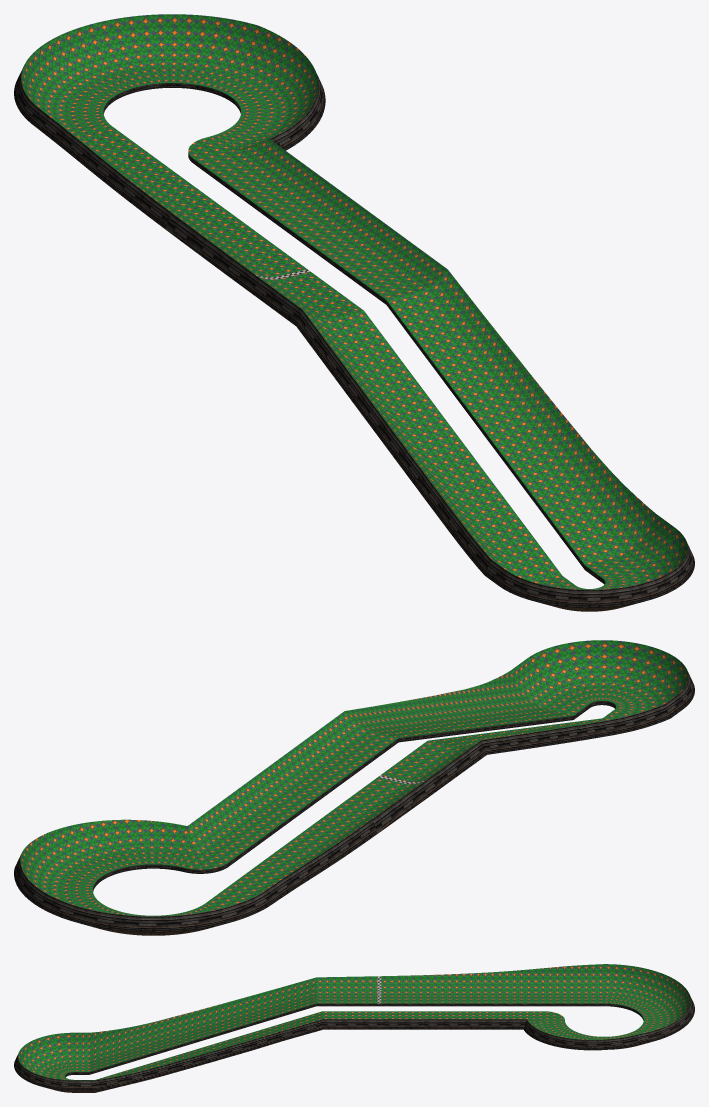
3 views of the same model, one above another, from view 1: azimuth 30°, elevation 25°; view 2: azimuth 150°, elevation 25°; view 3: azimuth 270°, elevation 25° (orthographic). The views are drawn at different scales.
Parts seen in each view (by area): view 1: course-COM-MOT_STAGE_D2-101257-1_13png.001, course-COM-MOT_STAGE_A1-101251-1_16png.001, course-COM-MOT_STAGE_A2-101252-1_0png.001, course-COM-MOT_STAGE_A1-101251-1_10png.001, course-COM-MOT_STAGE_D1-101256-1_11png.001, course-COM-MOT_STAGE_F1-101261-1_5pn.001, course-COM-MOT_STAGE_A2-101252-1_4png.001, course-COM-MOT_STAGE_F2-101262-1_7pn.001, course-COM-MOT_STAGE_B2-101254-1_Epng.001, course-COM-MOT_STAGE_B1-101253-1_Cpng.001, course-COM-MOT_STAGE_E2-101260-1_2pn.001, course-COM-MOT_STAGE_E1-101259-1_19png.001 (+18 smaller); view 2: course-COM-MOT_STAGE_D3-101258-1_17png.001, course-COM-MOT_STAGE_G1-101263-gxmat1250pn.001, course-COM-MOT_STAGE_A1-101251-1_16png.001, course-COM-MOT_STAGE_B2-101254-1_Epng.001, course-COM-MOT_STAGE_B1-101253-1_Cpng.001, course-COM-MOT_STAGE_D1-101256-2_14png.001, course-COM-MOT_STAGE_E2-101260-1_2pn.001, course-COM-MOT_STAGE_E1-101259-1_19png.001, course-COM-MOT_STAGE_B1-101253-1_Dpng.001, course-COM-MOT_STAGE_B2-101254-1_Fpng.001, course-COM-MOT_STAGE_G2-101264-1_9pn.001, course-COM-MOT_STAGE_A2-101252-1_0png.001 (+16 smaller); view 3: course-COM-MOT_STAGE_E2-101260-1_1pn.001, course-COM-MOT_STAGE_F1-101261-1_3pn.001, course-COM-MOT_STAGE_D1-101256-1_11png.001, course-COM-MOT_STAGE_E1-101259-1_18png.001, course-COM-MOT_STAGE_F2-101262-1_6pn.001, course-COM-MOT_STAGE_G2-101264-1_9pn.001, course-COM-MOT_STAGE_E2-101260-1_2pn.001, course-COM-MOT_STAGE_E1-101259-1_19png.001, course-COM-MOT_STAGE_A1-101251-2_1Apng.001, course-COM-MOT_STAGE_A2-101252-2_Dpng.001, course-COM-MOT_STAGE_F1-101261-1_5pn.001, course-COM-MOT_STAGE_B1-101253-2_11png.001 (+17 smaller).
Part boxes in pixels (x1=…): course-COM-MOT_STAGE_D2-101257-1_13png.001: x1=97, y1=14, x2=301, y2=89; course-COM-MOT_STAGE_A1-101251-1_16png.001: x1=518, y1=399, x2=674, y2=570; course-COM-MOT_STAGE_A2-101252-1_0png.001: x1=418, y1=269, x2=549, y2=424; course-COM-MOT_STAGE_A1-101251-1_10png.001: x1=486, y1=425, x2=634, y2=578; course-COM-MOT_STAGE_D1-101256-1_11png.001: x1=21, y1=23, x2=118, y2=134; course-COM-MOT_STAGE_F1-101261-1_5pn.001: x1=432, y1=443, x2=575, y2=588; course-COM-MOT_STAGE_A2-101252-1_4png.001: x1=386, y1=292, x2=517, y2=432; course-COM-MOT_STAGE_F2-101262-1_7pn.001: x1=332, y1=311, x2=462, y2=450; course-COM-MOT_STAGE_B2-101254-1_Epng.001: x1=225, y1=139, x2=358, y2=221; course-COM-MOT_STAGE_B1-101253-1_Cpng.001: x1=322, y1=204, x2=447, y2=291; course-COM-MOT_STAGE_E2-101260-1_2pn.001: x1=81, y1=126, x2=237, y2=226; course-COM-MOT_STAGE_E1-101259-1_19png.001: x1=207, y1=218, x2=363, y2=318; course-COM-MOT_STAGE_D3-101258-1_17png.001: x1=40, y1=819, x2=199, y2=869; course-COM-MOT_STAGE_G1-101263-gxmat1250pn.001: x1=527, y1=640, x2=645, y2=696; course-COM-MOT_STAGE_A1-101251-1_16png.001: x1=430, y1=659, x2=561, y2=719; course-COM-MOT_STAGE_B2-101254-1_Epng.001: x1=187, y1=769, x2=284, y2=855; course-COM-MOT_STAGE_B1-101253-1_Cpng.001: x1=266, y1=711, x2=369, y2=793; course-COM-MOT_STAGE_D1-101256-2_14png.001: x1=84, y1=888, x2=273, y2=932; course-COM-MOT_STAGE_E2-101260-1_2pn.001: x1=206, y1=822, x2=344, y2=907; course-COM-MOT_STAGE_E1-101259-1_19png.001: x1=317, y1=740, x2=455, y2=828; course-COM-MOT_STAGE_B1-101253-1_Dpng.001: x1=285, y1=731, x2=398, y2=800; course-COM-MOT_STAGE_B2-101254-1_Fpng.001: x1=200, y1=793, x2=312, y2=862; course-COM-MOT_STAGE_G2-101264-1_9pn.001: x1=625, y1=645, x2=688, y2=710; course-COM-MOT_STAGE_A2-101252-1_0png.001: x1=345, y1=696, x2=457, y2=730; course-COM-MOT_STAGE_E2-101260-1_1pn.001: x1=460, y1=964, x2=604, y2=994; course-COM-MOT_STAGE_F1-101261-1_3pn.001: x1=74, y1=1009, x2=202, y2=1062; course-COM-MOT_STAGE_D1-101256-1_11png.001: x1=604, y1=964, x2=690, y2=1019; course-COM-MOT_STAGE_E1-101259-1_18png.001: x1=316, y1=974, x2=460, y2=994; course-COM-MOT_STAGE_F2-101262-1_6pn.001: x1=202, y1=977, x2=316, y2=1028; course-COM-MOT_STAGE_G2-101264-1_9pn.001: x1=18, y1=1032, x2=74, y2=1075; course-COM-MOT_STAGE_E2-101260-1_2pn.001: x1=460, y1=994, x2=604, y2=1003; course-COM-MOT_STAGE_E1-101259-1_19png.001: x1=316, y1=994, x2=460, y2=1003; course-COM-MOT_STAGE_A1-101251-2_1Apng.001: x1=74, y1=1055, x2=200, y2=1090; course-COM-MOT_STAGE_A2-101252-2_Dpng.001: x1=200, y1=1019, x2=322, y2=1065; course-COM-MOT_STAGE_F1-101261-1_5pn.001: x1=74, y1=1029, x2=202, y2=1071; course-COM-MOT_STAGE_B1-101253-2_11png.001: x1=322, y1=1019, x2=424, y2=1029.
Bounding box in the file's own units: 37755 × 21018 × 142775.
85 materials, 85 textured.
